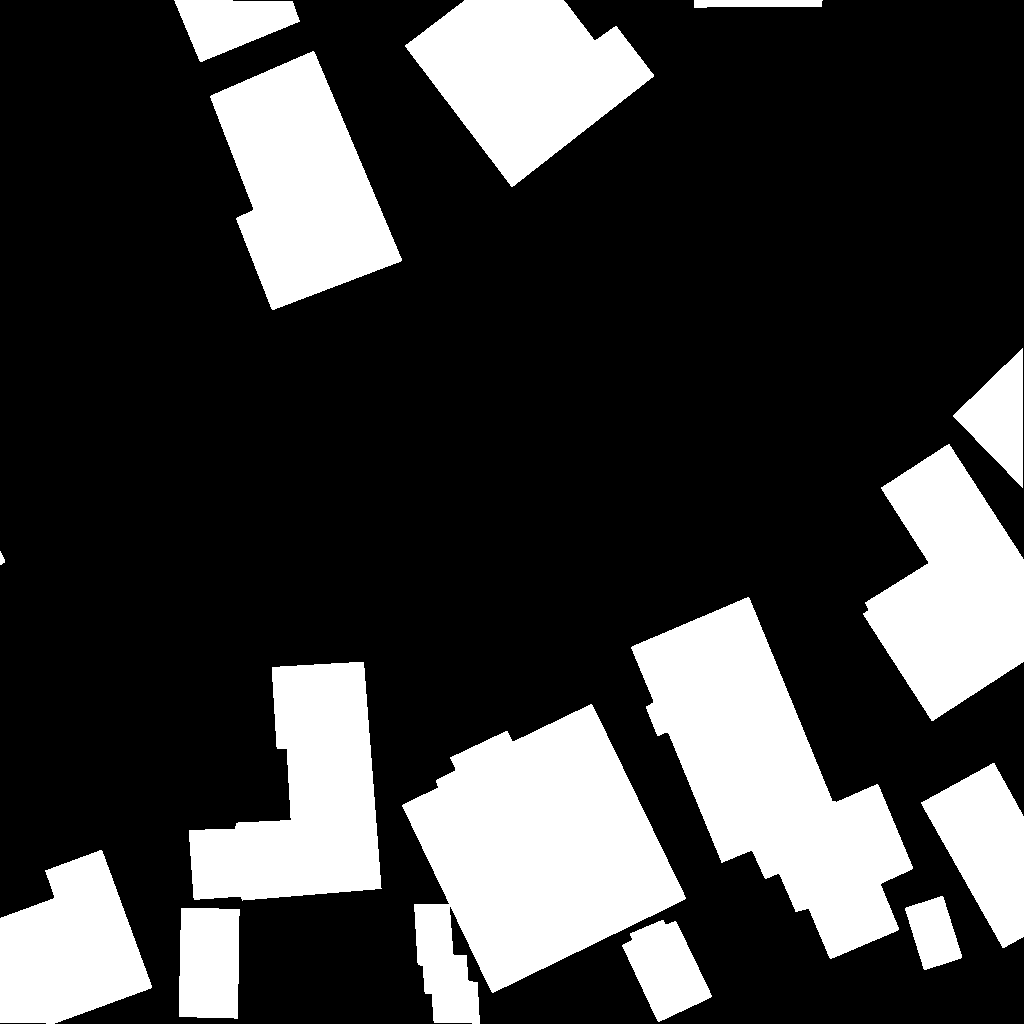building: (631, 597, 914, 960), (402, 704, 687, 994), (210, 51, 403, 311), (405, 0, 655, 188), (189, 662, 382, 901), (863, 444, 1024, 722), (0, 850, 153, 1024), (921, 763, 1024, 949), (953, 348, 1024, 489), (622, 920, 713, 1023), (414, 904, 481, 1024), (174, 0, 301, 63), (179, 908, 240, 1019), (905, 896, 963, 971), (694, 0, 823, 8), (0, 550, 6, 566)
